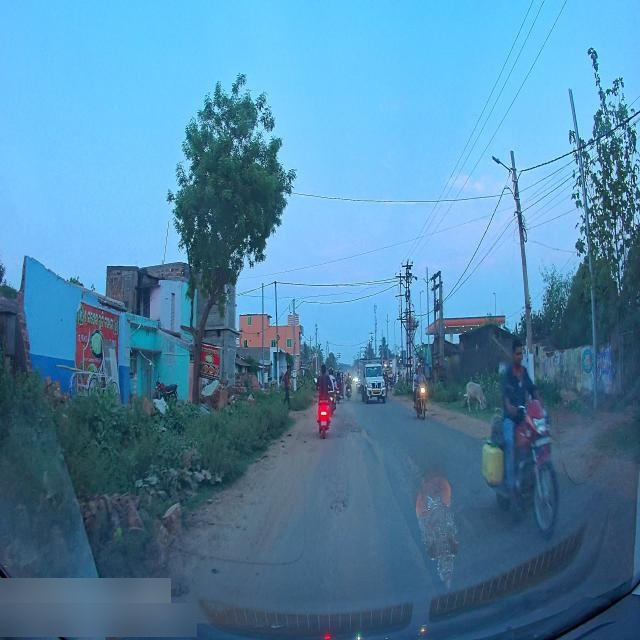pothole: (332, 425, 364, 436), (331, 493, 345, 516)
